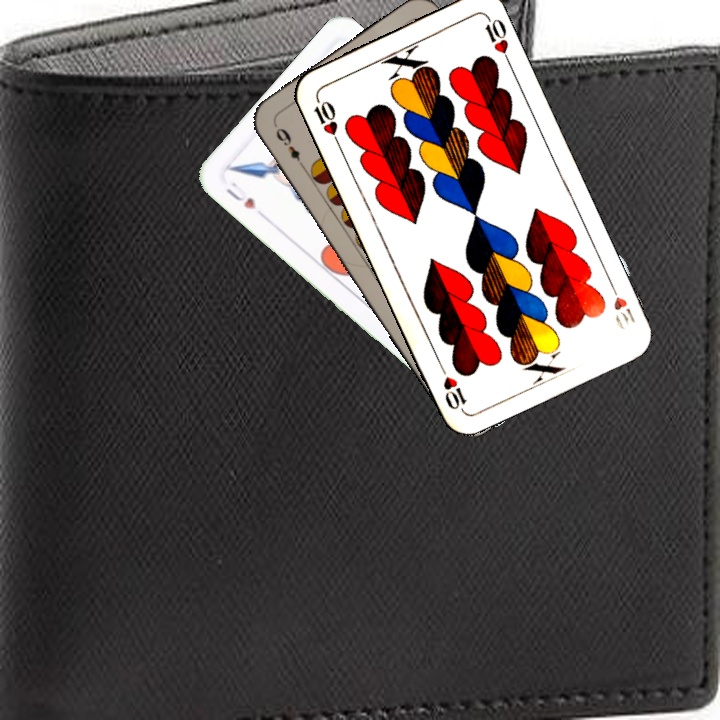E9: (270, 121, 309, 173)
H10: (310, 92, 343, 148), (605, 277, 638, 332)
HU: (222, 177, 259, 212)
